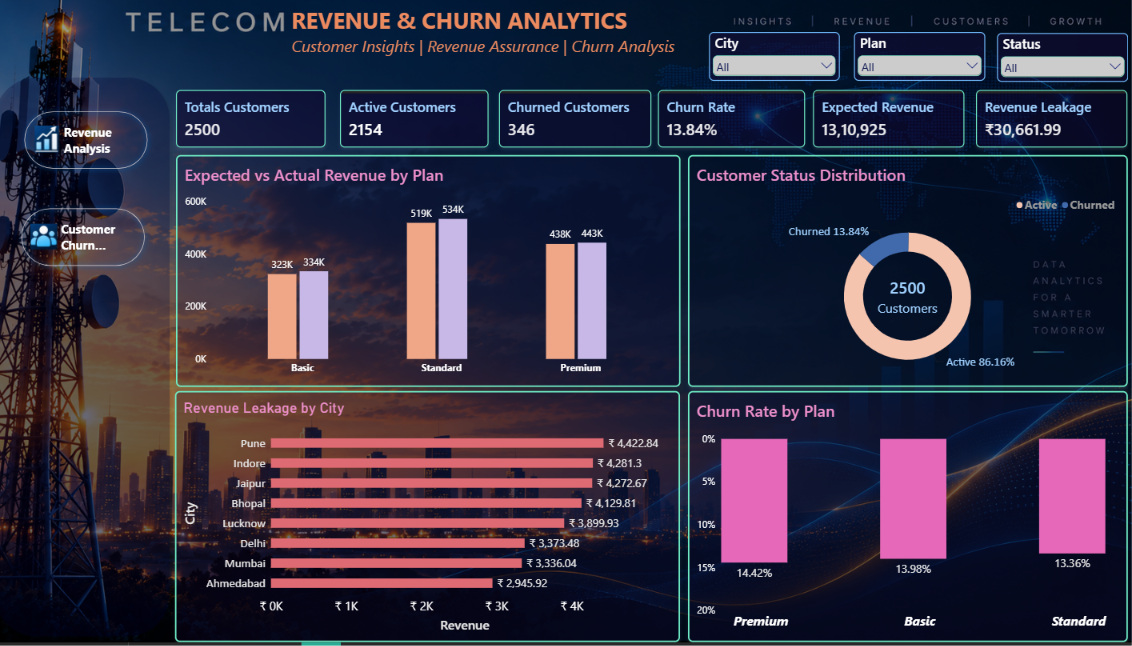

The dashboard page shown, as its layout file describes it:
{"tool":"powerbi","page":{"name":"Revenue Analysis","canvas":[1920,1080],"ordinal":0},"visuals":[{"type":"cardVisual","fields":{"Data":["Data.Active Customers"]},"box":[587.8,157,247.7,95.9],"z":0},{"type":"cardVisual","fields":{"Data":["Data.Churned Customers"]},"box":[852.9,157,254.7,95.9],"z":1000},{"type":"cardVisual","fields":{"Data":["Data.Churn Rate"]},"box":[1118,157,245.9,95.9],"z":2000},{"type":"cardVisual","fields":{"Data":["Data.Expected Revenue"]},"box":[1377.9,157,252.9,95.9],"z":3000},{"type":"cardVisual","fields":{"Data":["Data.Actual Revenue"]},"box":[1650,157,252.9,95.9],"z":4000},{"type":"clusteredColumnChart","title":"Expected vs Actual Revenue by Plan","fields":{"Y":["Sum(Data.actual_revenue)","Sum(Data.expected_revenue)"],"Category":["Data.plan"]},"box":[314,265.1,842.4,387.2],"z":5000},{"type":"clusteredBarChart","title":"Revenue Leakage by City","fields":{"Category":["Data.city"],"Y":["Sum(Data.revenue_gap)"]},"box":[313,659.5,843.1,419.5],"z":6000},{"type":"donutChart","title":"Customer Status Distribution","fields":{"Category":["Data.status"],"Y":["Data.Totals Customers"]},"box":[1168.6,265.1,734.3,387.2],"z":7000},{"type":"clusteredColumnChart","title":"Churn Rate by Plan","fields":{"Category":["Data.plan"],"Y":["Data.Churn Rate"]},"box":[1168.7,659.5,734.6,419.5],"z":8000},{"type":"slicer","title":"City","fields":{"Values":["Data.city"]},"box":[1204.2,60.5,218,82],"z":9000},{"type":"cardVisual","title":"Total Customers","fields":{"Data":["Data.Totals Customers"]},"box":[314,157,249.4,95.9],"z":10000},{"type":"textbox","box":[498.8,15.7,669.8,89],"z":11000},{"type":"shape","box":[2.1,127.3,311,951.7],"z":12000},{"type":"actionButton","title":"A","box":[52.2,182.9,223.6,113.4],"z":13000},{"type":"actionButton","title":"A","box":[46.6,345.2,223.9,113.8],"z":14000},{"type":"slicer","title":"City","fields":{"Values":["Data.plan"]},"box":[1446.3,60.5,219.1,81.4],"z":15000},{"type":"slicer","title":"City","fields":{"Values":["Data.status"]},"box":[1684.2,62.6,219.1,81.4],"z":16000}]}

Visuals, with their boxes in screenshot pixels (x1, y1, x2, y2), scaled from the page's 1920x1080 canvas onto the 1132x646 screenshot:
cardVisual - Data.Active Customers: [left=347, top=94, right=493, bottom=151]
cardVisual - Data.Churned Customers: [left=503, top=94, right=653, bottom=151]
cardVisual - Data.Churn Rate: [left=659, top=94, right=804, bottom=151]
cardVisual - Data.Expected Revenue: [left=812, top=94, right=961, bottom=151]
cardVisual - Data.Actual Revenue: [left=973, top=94, right=1122, bottom=151]
"Expected vs Actual Revenue by Plan" clusteredColumnChart: [left=185, top=159, right=682, bottom=390]
"Revenue Leakage by City" clusteredBarChart: [left=185, top=394, right=682, bottom=645]
"Customer Status Distribution" donutChart: [left=689, top=159, right=1122, bottom=390]
"Churn Rate by Plan" clusteredColumnChart: [left=689, top=394, right=1122, bottom=645]
"City" slicer: [left=710, top=36, right=839, bottom=85]
"Total Customers" cardVisual: [left=185, top=94, right=332, bottom=151]
textbox: [left=294, top=9, right=689, bottom=63]
shape: [left=1, top=76, right=185, bottom=645]
"A" actionButton: [left=31, top=109, right=163, bottom=177]
"A" actionButton: [left=27, top=206, right=159, bottom=275]
"City" slicer: [left=853, top=36, right=982, bottom=85]
"City" slicer: [left=993, top=37, right=1122, bottom=86]
